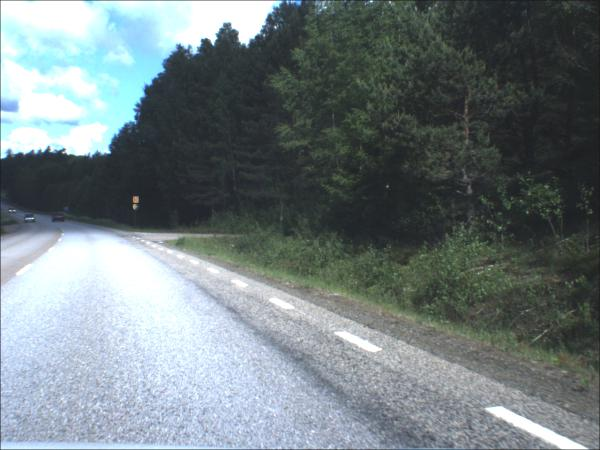80_SIGN: (134, 197, 141, 205)
PRIORITY_ROAD: (135, 205, 141, 212)
